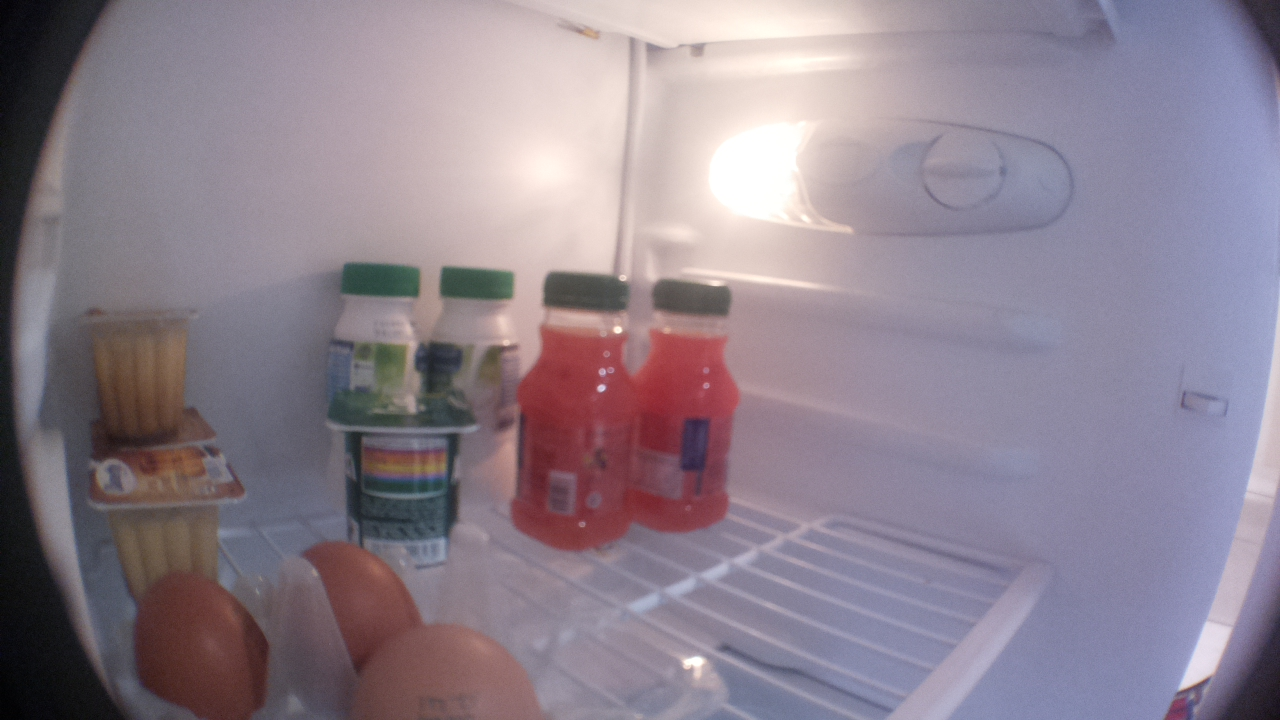caramel: (84, 442, 246, 612), (68, 281, 206, 445), (81, 391, 229, 451)
egg: (266, 536, 434, 699), (121, 571, 275, 720), (333, 618, 550, 720)
juice: (502, 267, 641, 558), (631, 278, 750, 542)
laban: (428, 261, 516, 513), (325, 257, 431, 395)
yoghurt: (323, 382, 489, 573)
